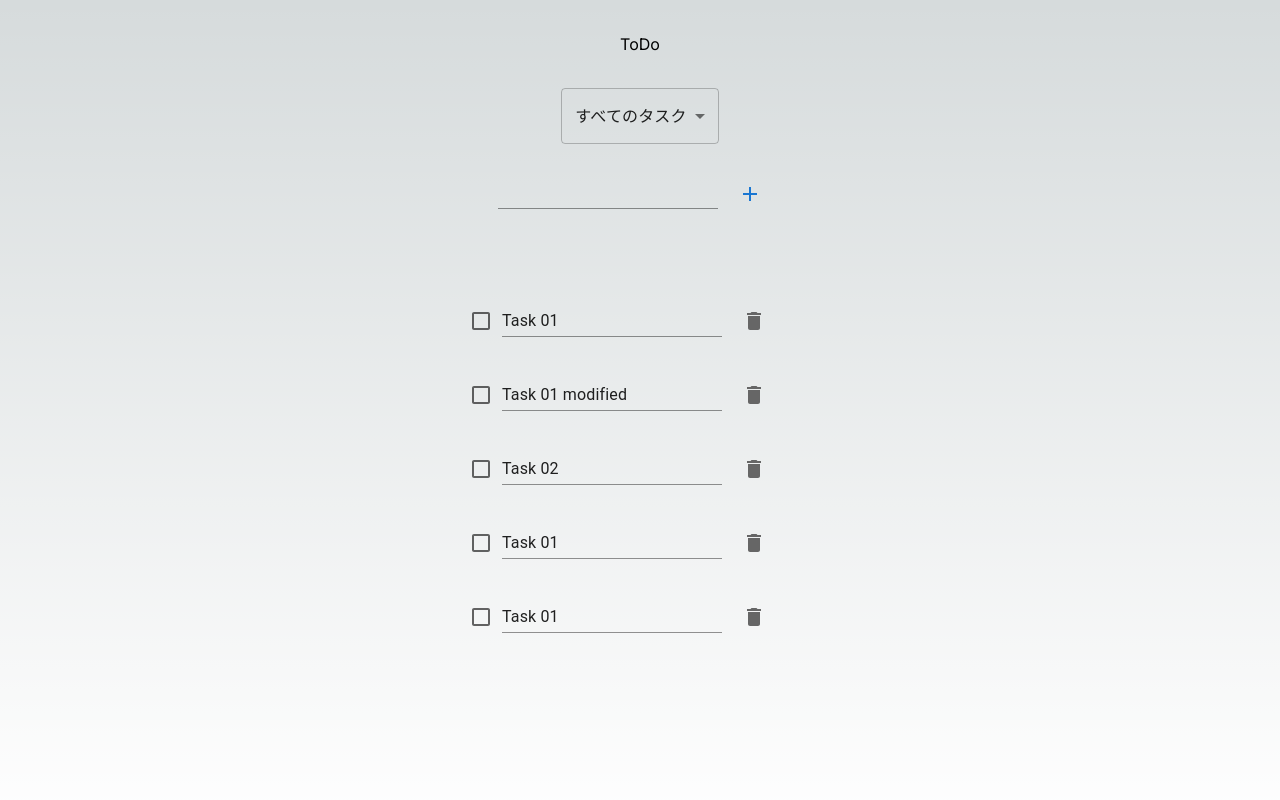
Test: ToDo › タスクのステータスを変更する › 登録されたタスクをチェックすることで完了状態にできること
Type "Task 01" into the 1st field at (608, 193), box [498,177,718,209]
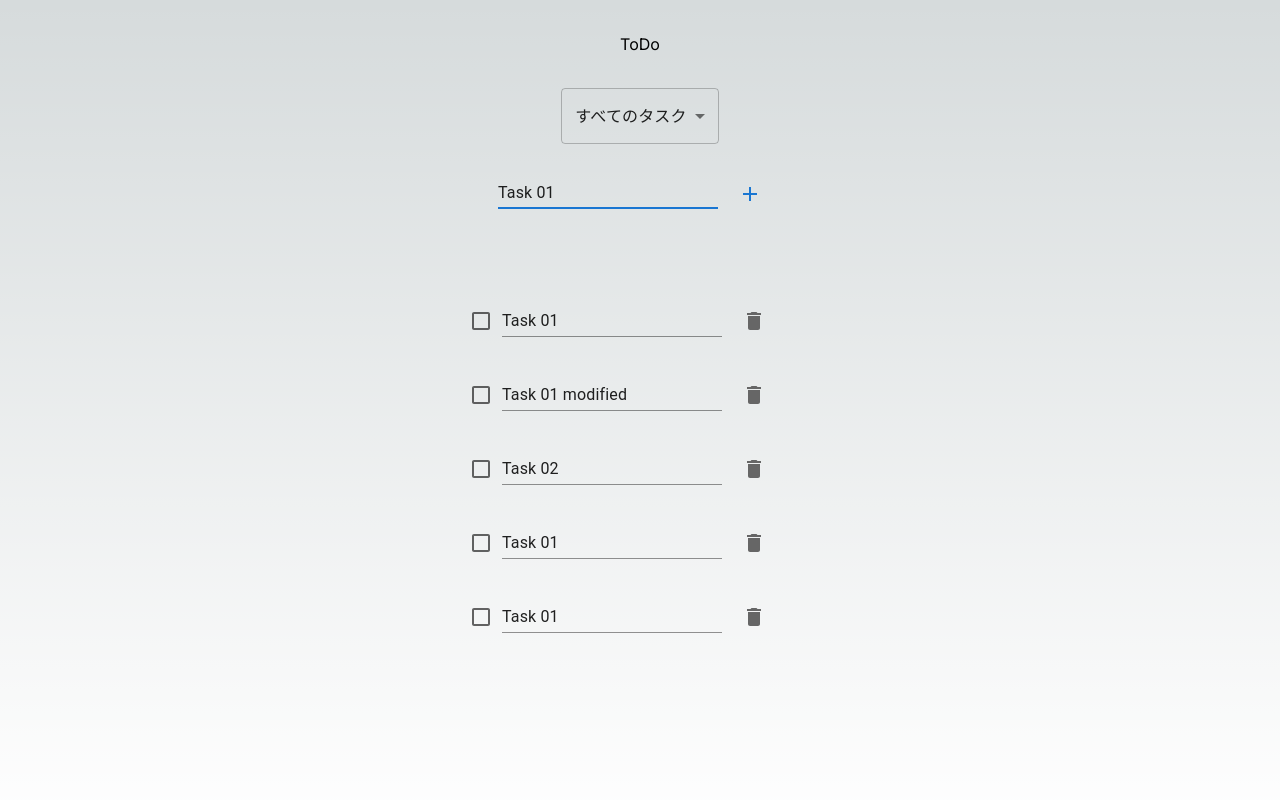
Click the 1st button at (750, 194), box [718,176,782,212]
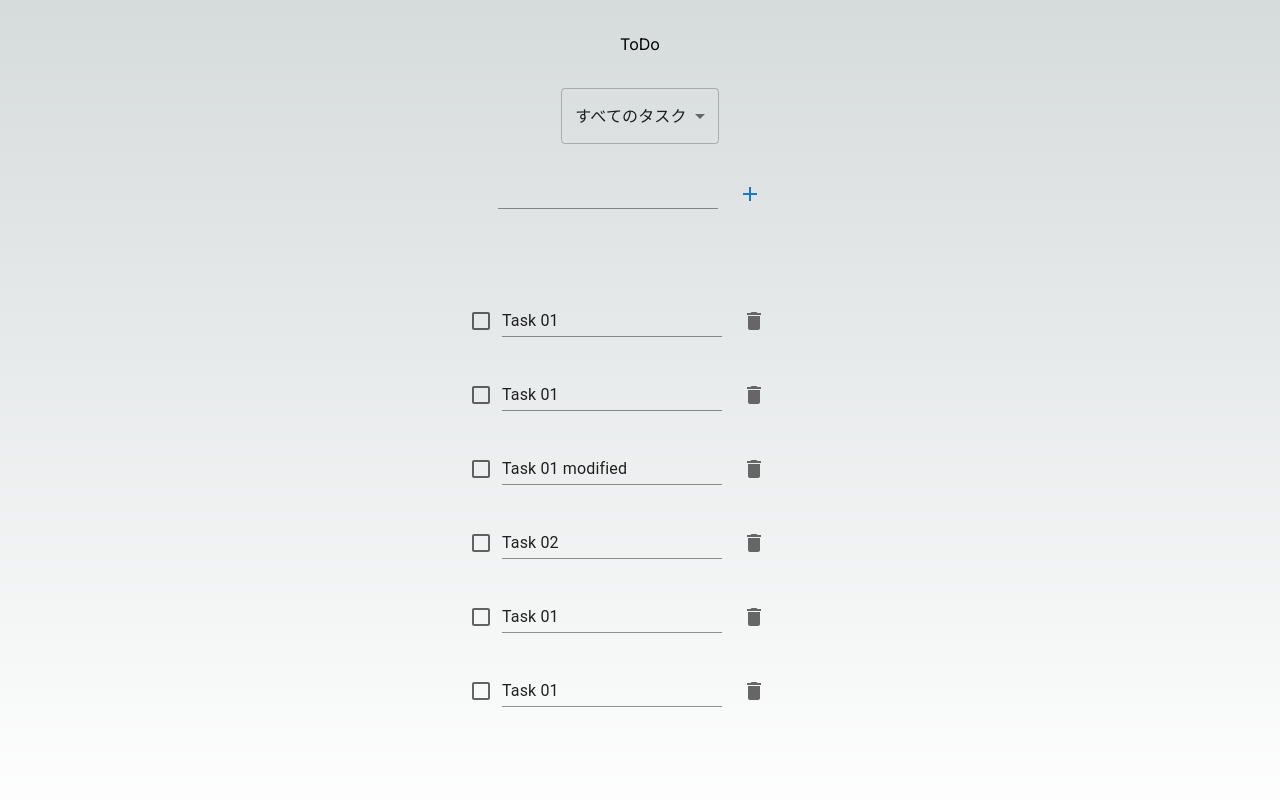
checkboxのチェック
Click the 1st checkbox at (481, 321), box [469,309,493,333]
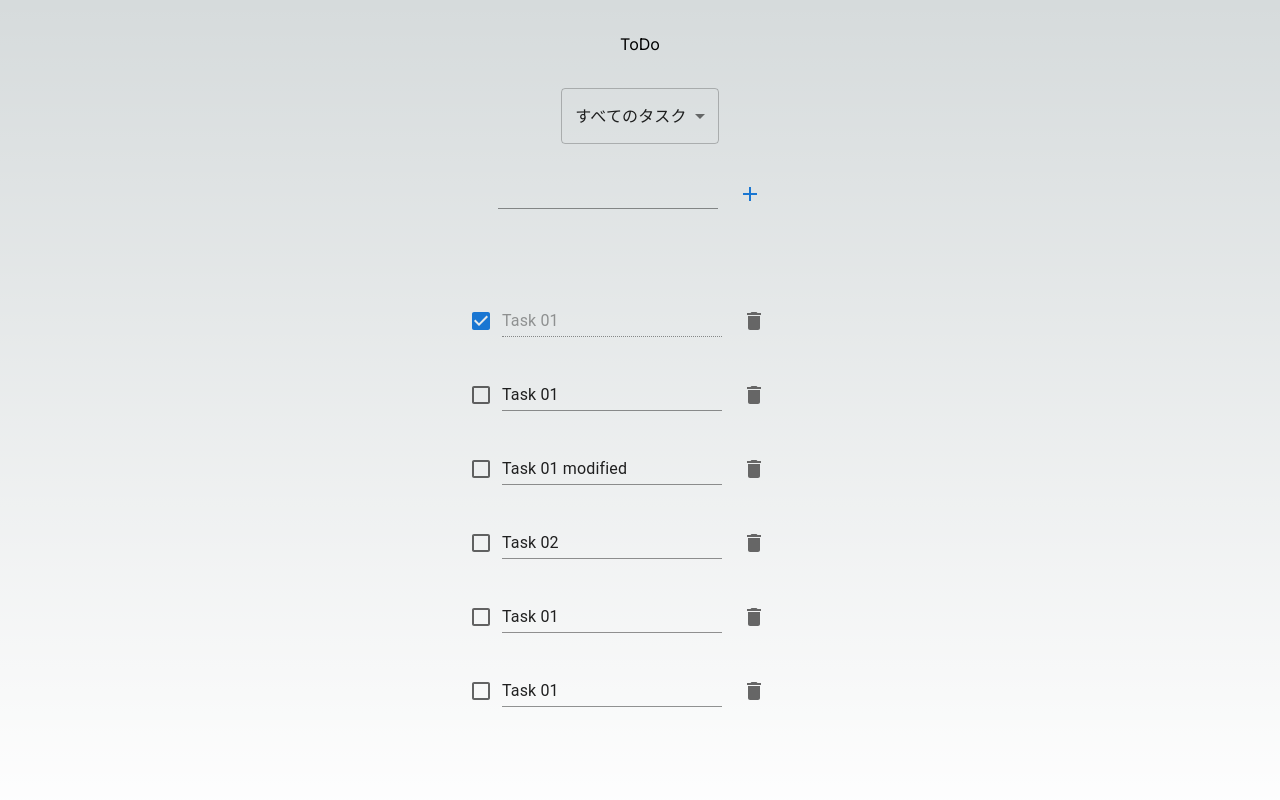
Expected: the 1st checkbox is checked, [469,309,493,333]
Expected: the 2nd field is disabled, [502,305,722,337]
